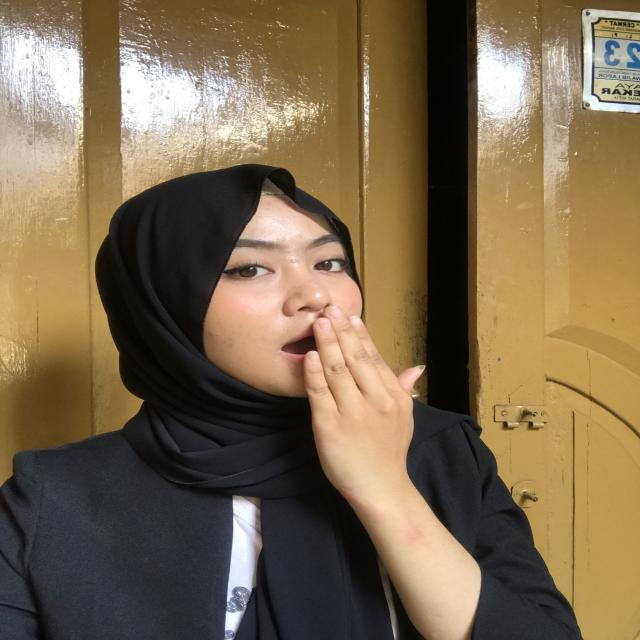ngantuk: (287, 284, 447, 512)
